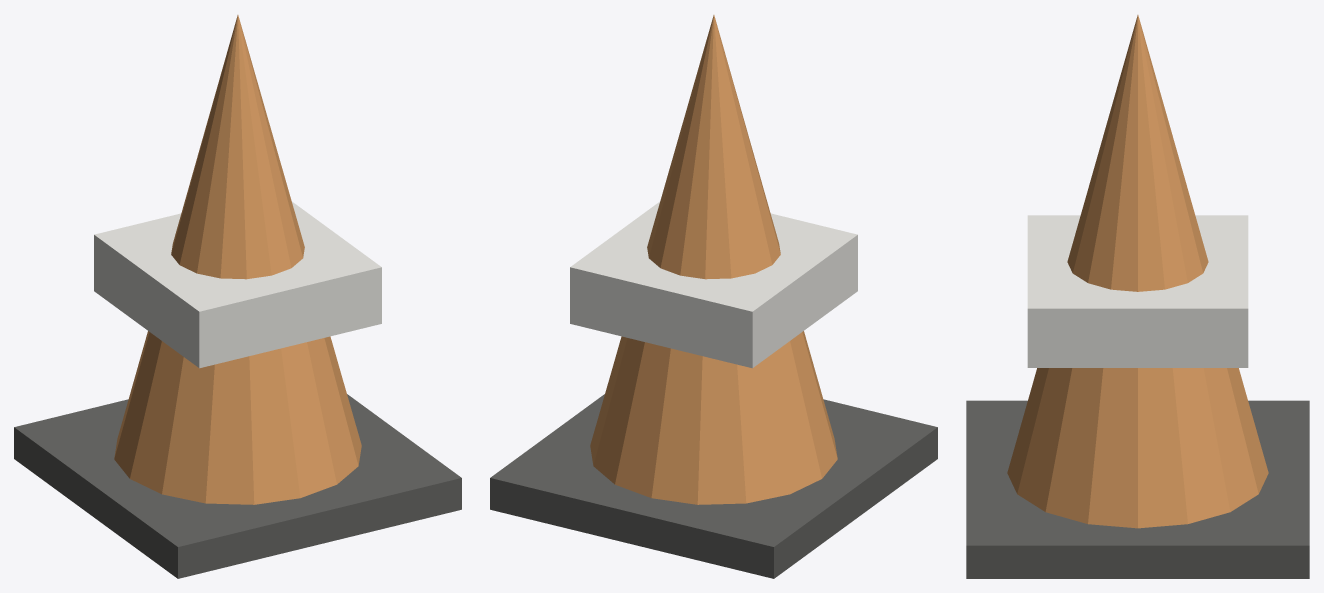
The model's file is traffic_cone_02.glb.
3 views of the same model, side by side, from view 1: azimuth 30°, elevation 25°; view 2: azimuth 150°, elevation 25°; view 3: azimuth 270°, elevation 25° (orthographic). The views are drawn at different scales.
Parts seen in each view (by area): view 1: cone, base, stripe; view 2: cone, base, stripe; view 3: cone, base, stripe.
Part boxes in pixels (x1,y1,x2,y2): cone: (114, 15, 361, 504); base: (14, 394, 461, 578); stripe: (94, 201, 381, 368); cone: (590, 15, 837, 504); base: (490, 394, 937, 578); stripe: (570, 201, 857, 368); cone: (1007, 15, 1268, 528); base: (966, 400, 1309, 578); stripe: (1027, 215, 1248, 367).
Bounding box in the file's own units: 0.42 × 0.665 × 0.42.
